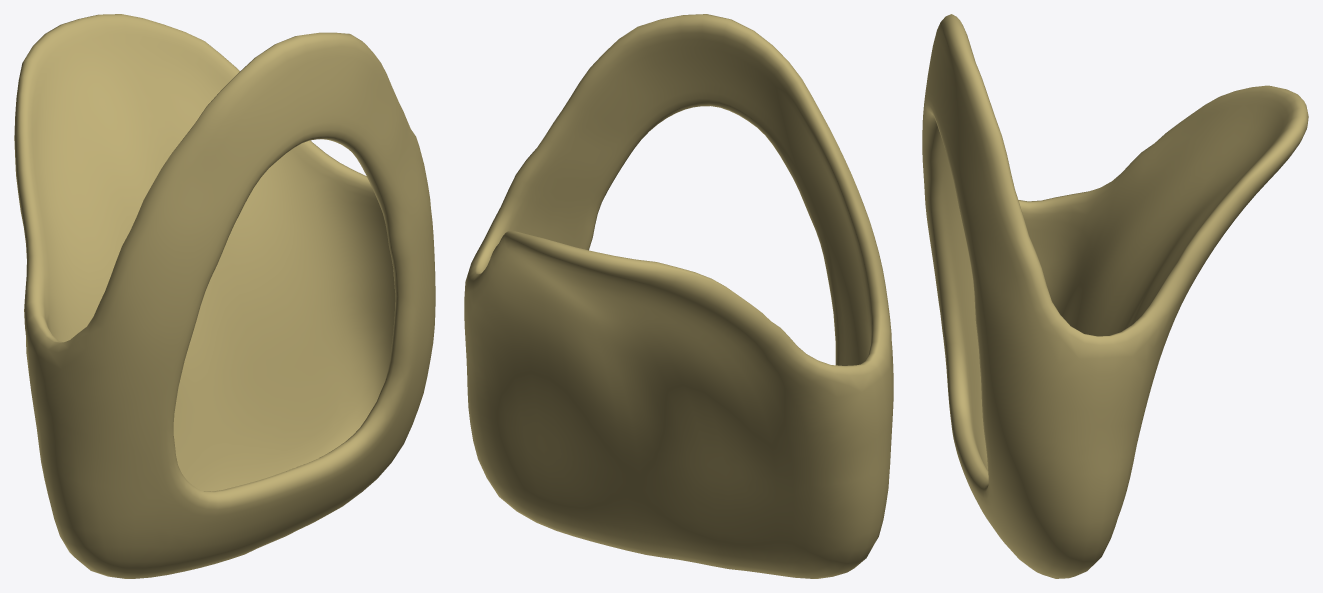
Rendered from TR1_Frame_Classic.001 3.glb.
3 renders of one model, left to right at view 1: azimuth 30°, elevation 25°; view 2: azimuth 150°, elevation 25°; view 3: azimuth 270°, elevation 25°, orthographic. The views are drawn at different scales.
Visible parts, largest first — view 1: TR1_Frame_Classic.001; view 2: TR1_Frame_Classic.001; view 3: TR1_Frame_Classic.001.
Boxes of the visible parts, x1,y1,x2,y2 form: TR1_Frame_Classic.001: [14, 14, 435, 578]; TR1_Frame_Classic.001: [464, 14, 893, 578]; TR1_Frame_Classic.001: [922, 14, 1308, 578].
Bounding box in the file's own units: 0.8659 × 1.1 × 0.7451.
